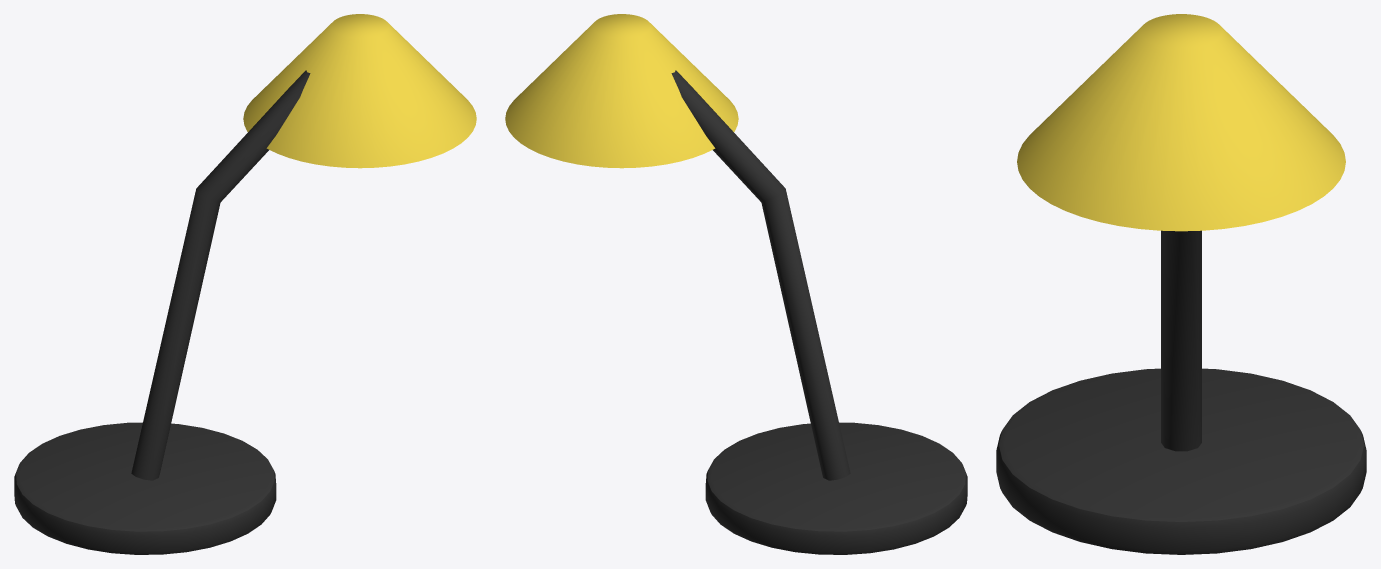
The model's file is lamp.glb.
3 renders of one model, left to right at view 1: azimuth 30°, elevation 25°; view 2: azimuth 150°, elevation 25°; view 3: azimuth 270°, elevation 25°, orthographic. The views are drawn at different scales.
Parts seen in each view (by area): view 1: base, shade, arm; view 2: base, shade, arm; view 3: base, shade, arm.
Part boxes in pixels (<box>): base: <box>14,422,276,554</box>; shade: <box>243,14,476,168</box>; arm: <box>131,70,310,480</box>; base: <box>705,422,967,554</box>; shade: <box>505,14,738,168</box>; arm: <box>671,70,850,480</box>; base: <box>996,368,1366,554</box>; shade: <box>1017,14,1345,231</box>; arm: <box>1161,230,1201,451</box>.
Size of the model in its own units: 0.34 by 0.32 by 0.18.
